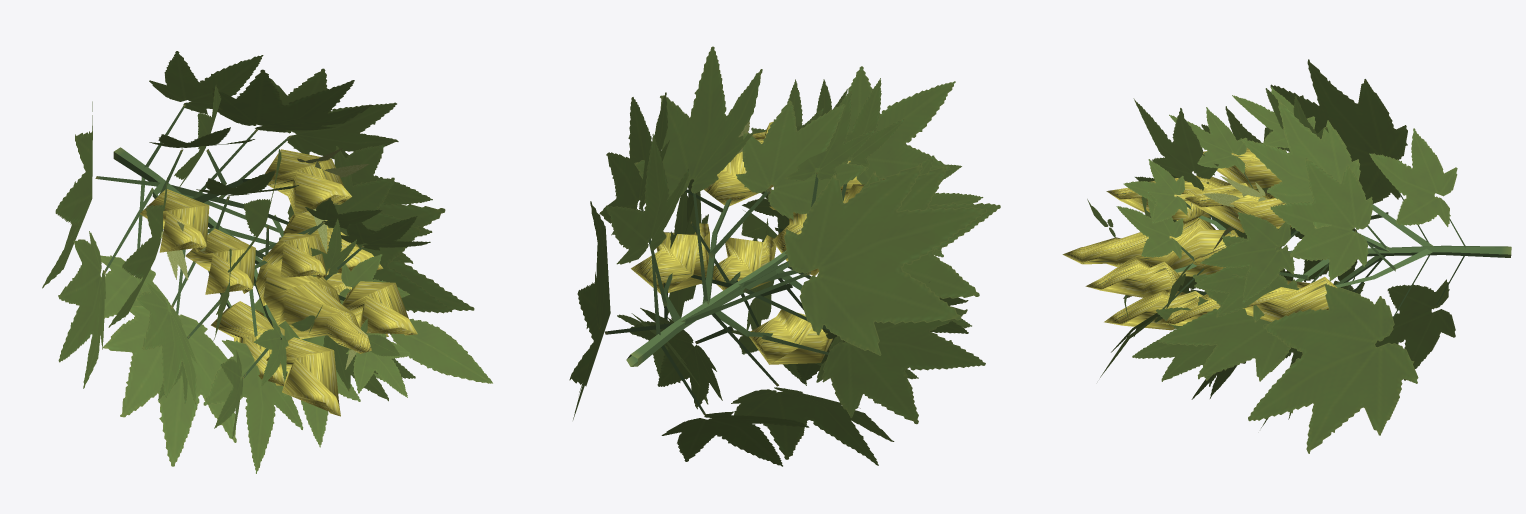
Rendered from p_gold_kush_flowering_c0_cards.obj.
3 renders of one model, left to right at view 1: azimuth 30°, elevation 25°; view 2: azimuth 150°, elevation 25°; view 3: azimuth 270°, elevation 25°, orthographic. The views are drawn at different scales.
Size of the model in its own units: 1.4 by 1.29 by 1.33.
1 material, 1 textured.
